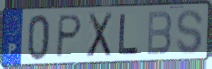0: (26, 13, 52, 62)
B: (146, 10, 174, 58)
L: (117, 13, 141, 57)
P: (54, 14, 84, 60)
S: (175, 8, 205, 56)
X: (86, 11, 114, 60)
